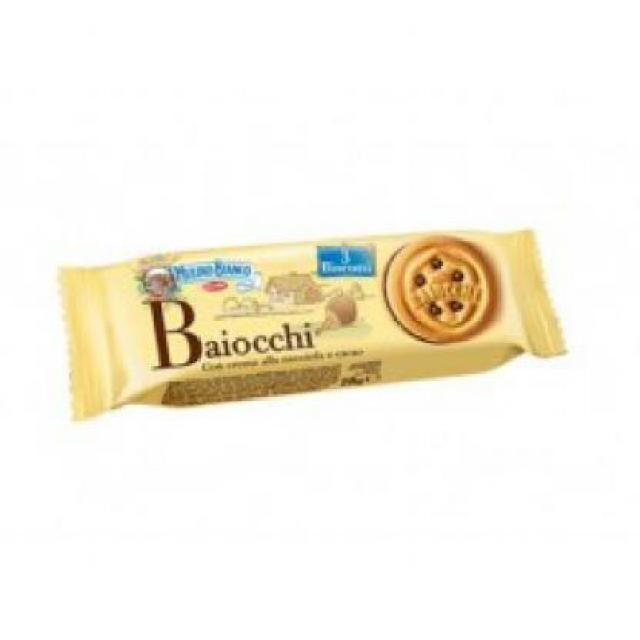Merendine: (49, 231, 572, 420)
